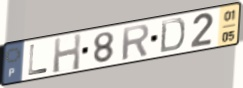2: (189, 11, 217, 51)
8: (92, 31, 117, 65)
D: (158, 17, 187, 55)
H: (52, 32, 83, 75)
L: (27, 43, 49, 77)
R: (121, 23, 151, 62)
